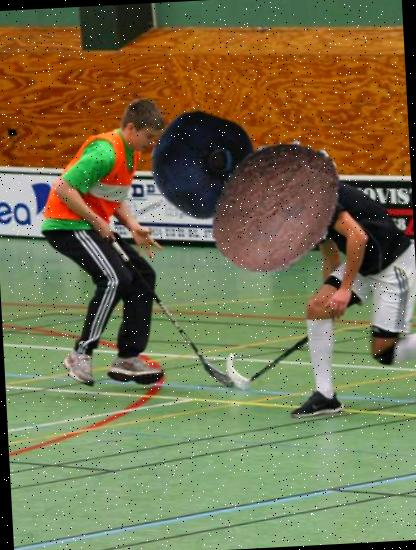Blueberry: (148, 109, 262, 224)
Cocos: (200, 129, 352, 281)
